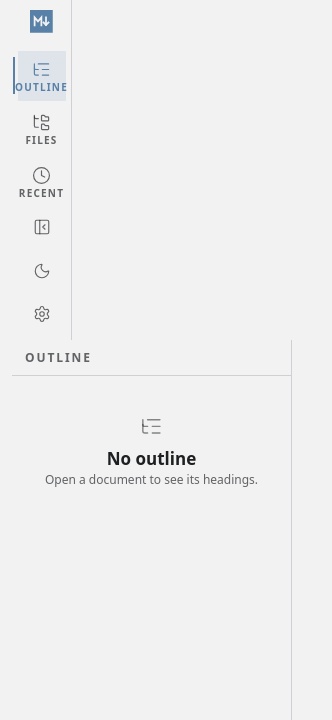
Sidebar › switches views from the rail (click and arrow keys)
The image size is (332, 720).
Expected: the heading "Outline" is shown, [25,349,92,366]
Click the button "Recent": (42,182) [18,157,66,207]
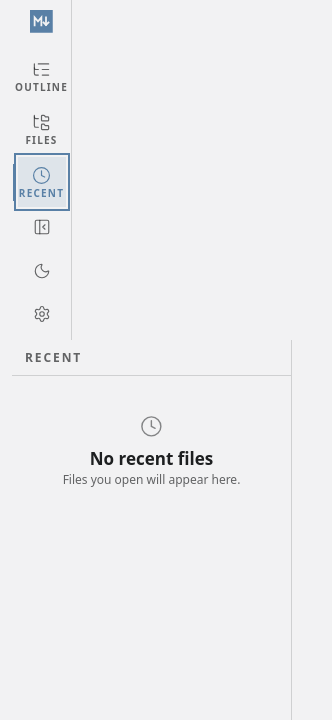
Expected: the heading "Recent" is shown, [25,349,82,366]
Expected: the text "No recent files" is shown, [90,448,213,469]
Press Arrowdown
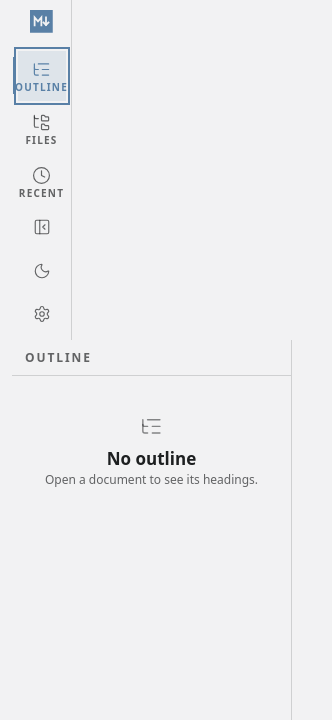
Press Arrowdown
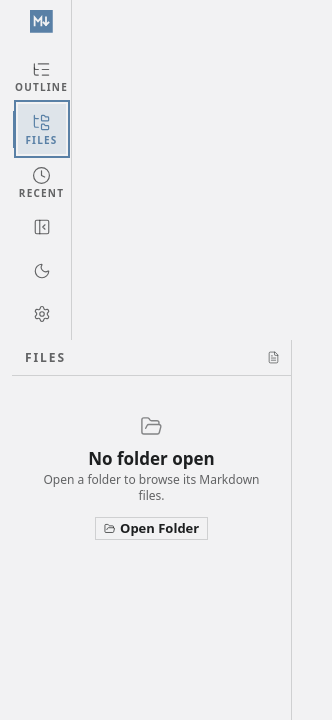
Expected: the heading "Files" is shown, [25,349,66,366]
Expected: the text "No folder open" is shown, [88,448,215,469]
